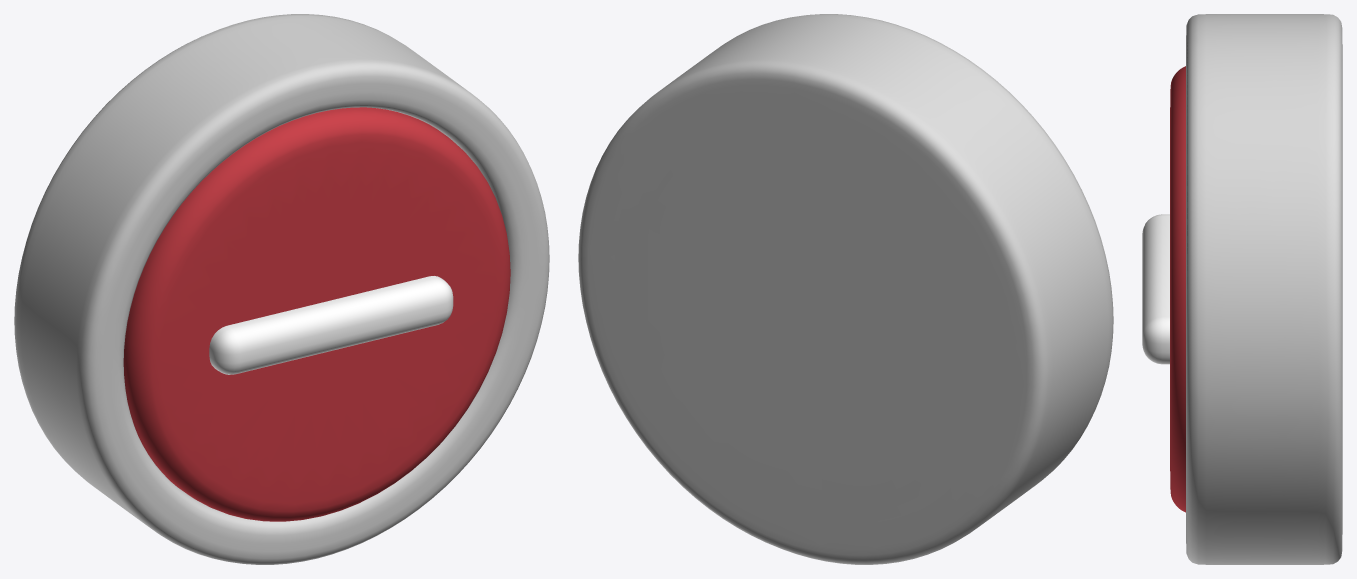
File: denied-animated-3d-icon-1640454534098.glb
3 views of the same model, side by side, from view 1: azimuth 30°, elevation 25°; view 2: azimuth 150°, elevation 25°; view 3: azimuth 270°, elevation 25° (orthographic).
Visible parts, largest first — view 1: Circle, Base, Denied Sign; view 2: Base; view 3: Base, Circle, Denied Sign.
Part boxes in pixels (left/top/right/bottom): Circle: left=123, top=107, right=510, bottom=521; Base: left=14, top=14, right=549, bottom=564; Denied Sign: left=209, top=276, right=453, bottom=374; Base: left=578, top=14, right=1113, bottom=564; Base: left=1186, top=14, right=1342, bottom=564; Circle: left=1170, top=66, right=1185, bottom=512; Denied Sign: left=1142, top=214, right=1169, bottom=364.
Size of the model in its own units: 1.99 by 1.99 by 0.7225.
